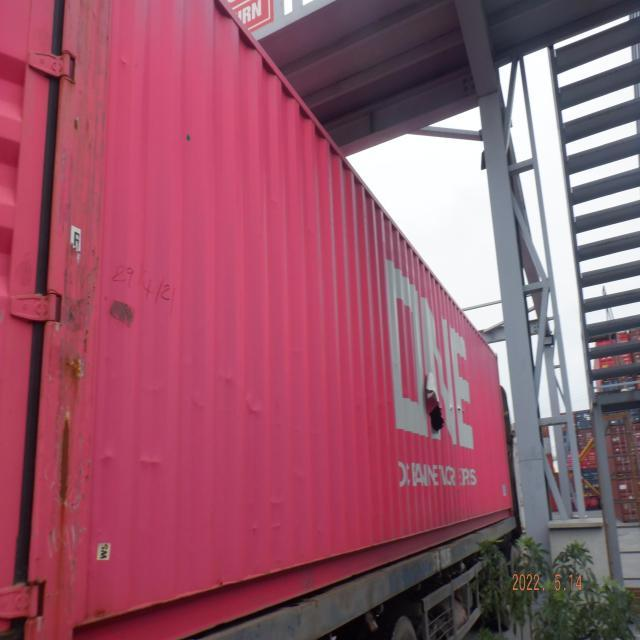hole: (430, 406, 445, 436)
